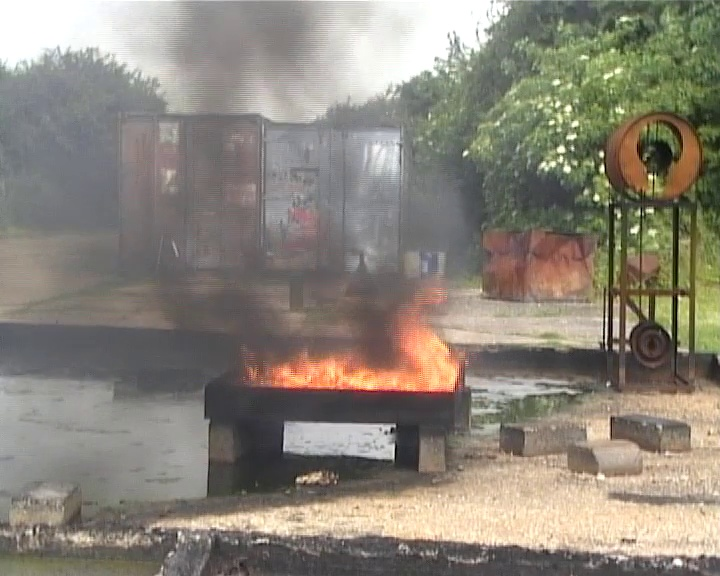fire: (254, 329, 453, 392)
